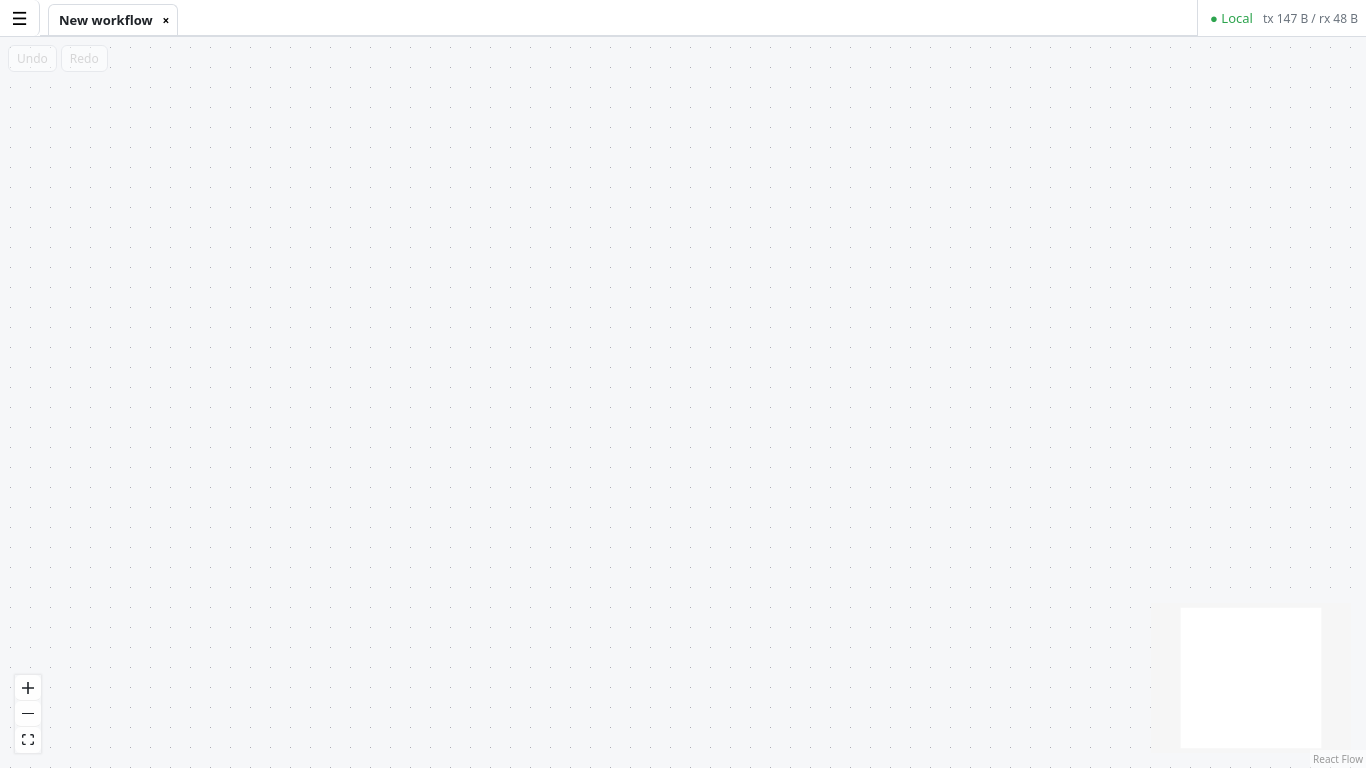
список workflow и вкладки › дублирование создаёт копию с тем же графом
Click the button named "Menu" at [20, 18], box x1=0 y1=0 x2=40 y2=36
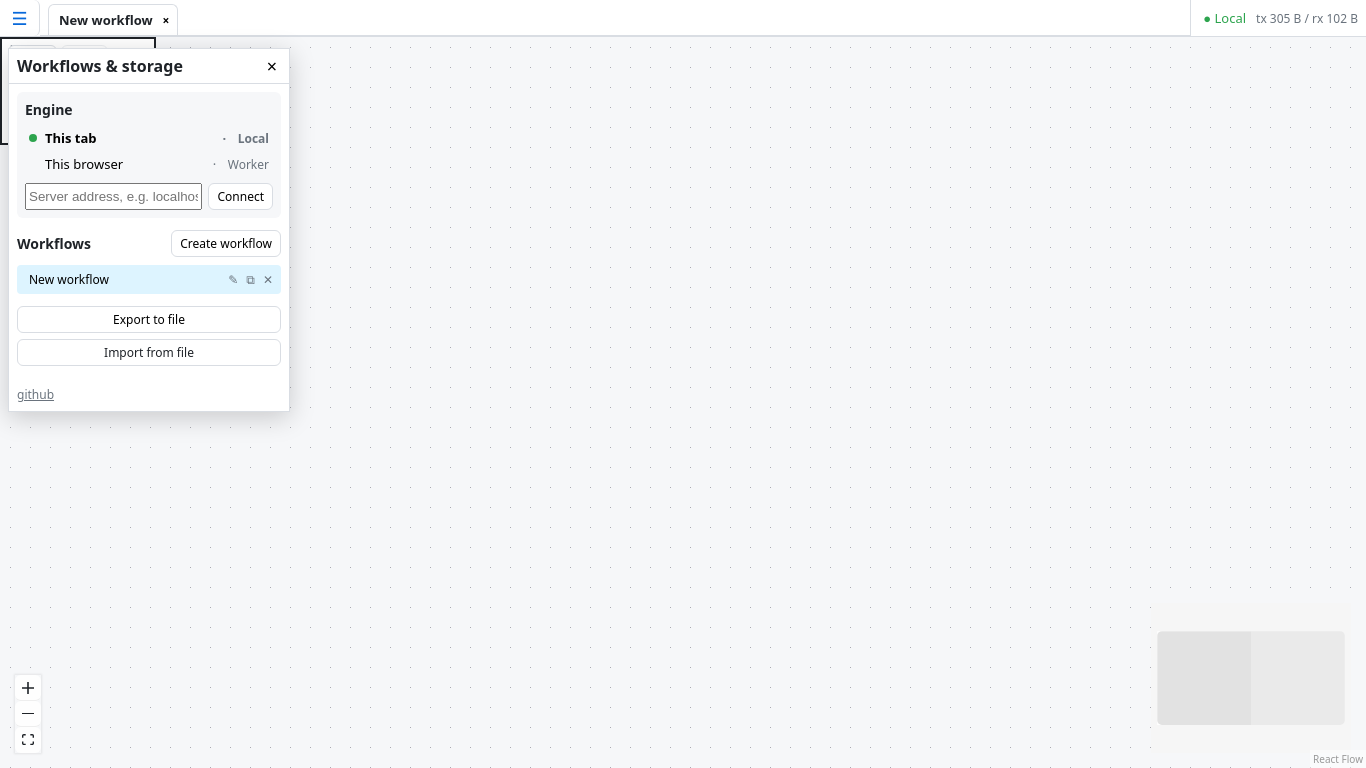
Click the button named "Duplicate “New workflow”" at [251, 280], box x1=242 y1=269 x2=259 y2=290
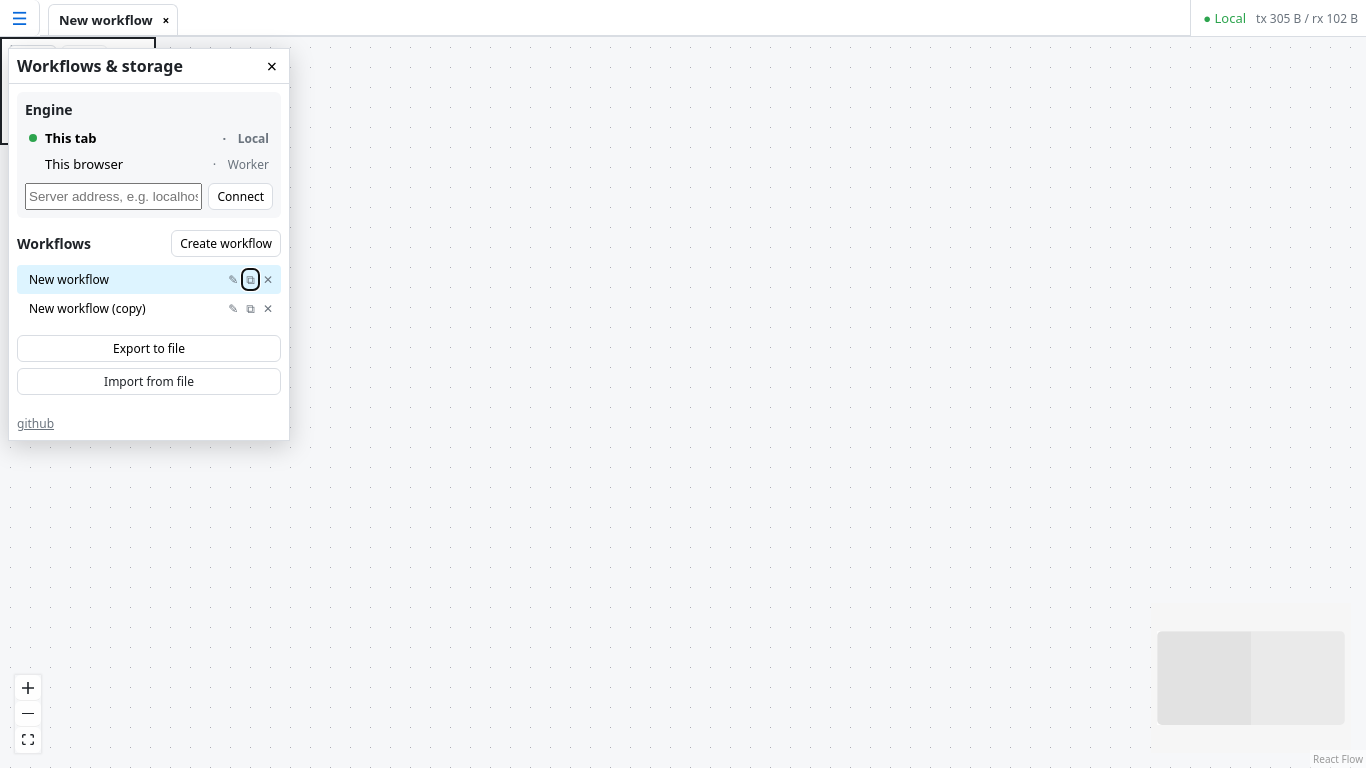
Check: the button "New workflow (copy)" is shown, box x1=21 y1=296 x2=220 y2=321
